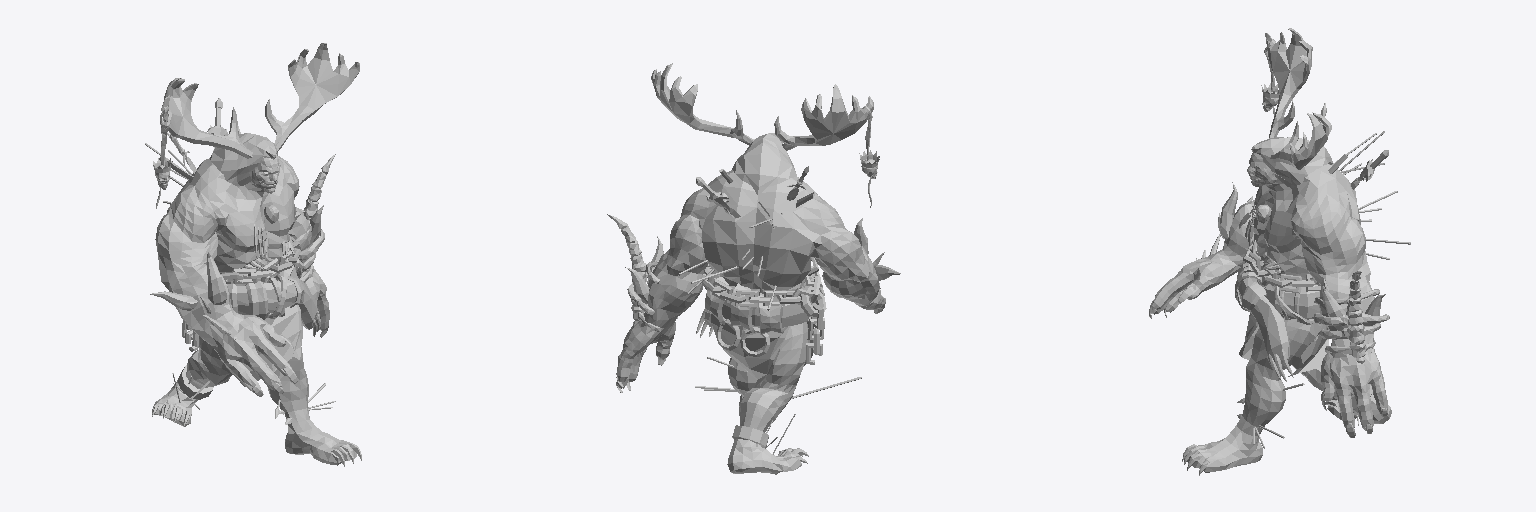
Rendered from walking_000010.obj.
3 views of the same model, side by side, from view 1: azimuth 30°, elevation 25°; view 2: azimuth 150°, elevation 25°; view 3: azimuth 270°, elevation 25° (orthographic).
Parts seen in each view (by area): view 1: MAW; view 2: MAW; view 3: MAW.
Part boxes in pixels (x1,y1,x2,y2): MAW: (145,43,361,466); MAW: (607,63,900,474); MAW: (1149,28,1410,475).
Bounding box in the file's own units: 15.04 × 22.86 × 14.09.